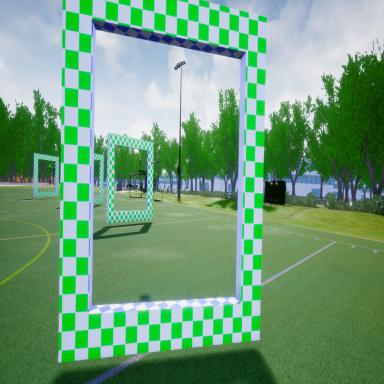gate: (57, 0, 268, 369), (104, 126, 154, 229), (32, 145, 60, 200)
